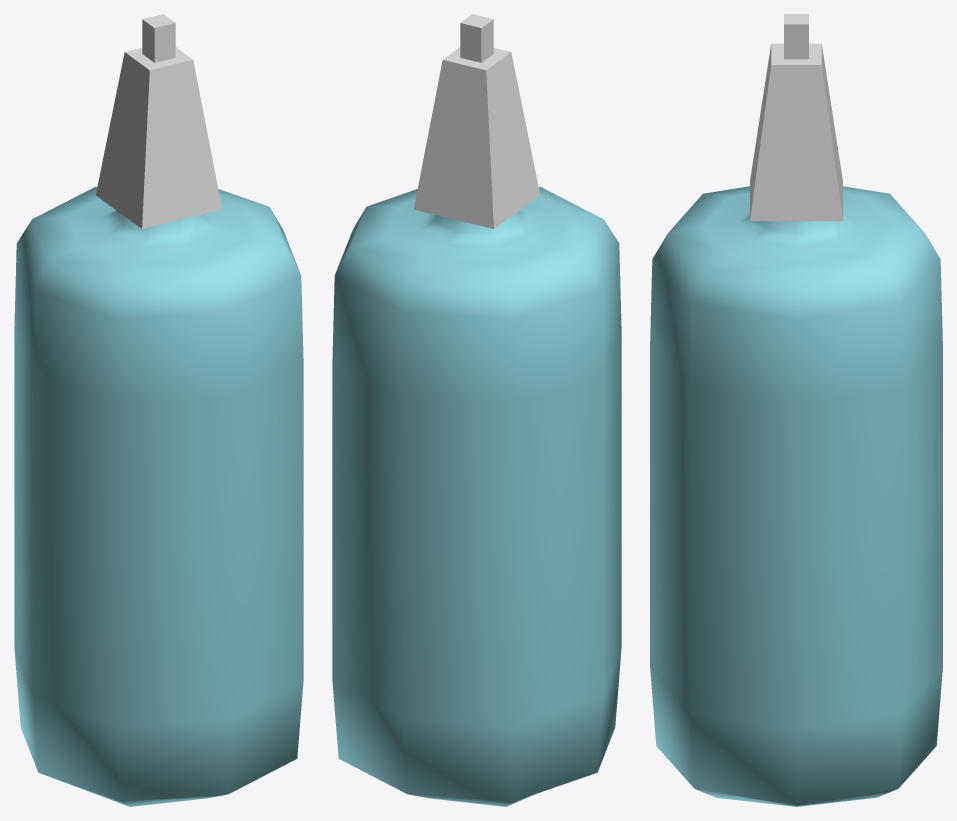
File: Dispenser long 01.fbx
3 renders of one model, left to right at view 1: azimuth 30°, elevation 25°; view 2: azimuth 150°, elevation 25°; view 3: azimuth 270°, elevation 25°, orthographic.
Visible parts, largest first — view 1: Bottle 2; view 2: Bottle 2; view 3: Bottle 2.
Boxes of the visible parts, x1,y1,x2,y2 form: Bottle 2: (14, 14, 303, 806); Bottle 2: (332, 14, 621, 806); Bottle 2: (650, 14, 942, 806).
Bounding box in the file's own units: 17.9 × 50.63 × 17.9.
